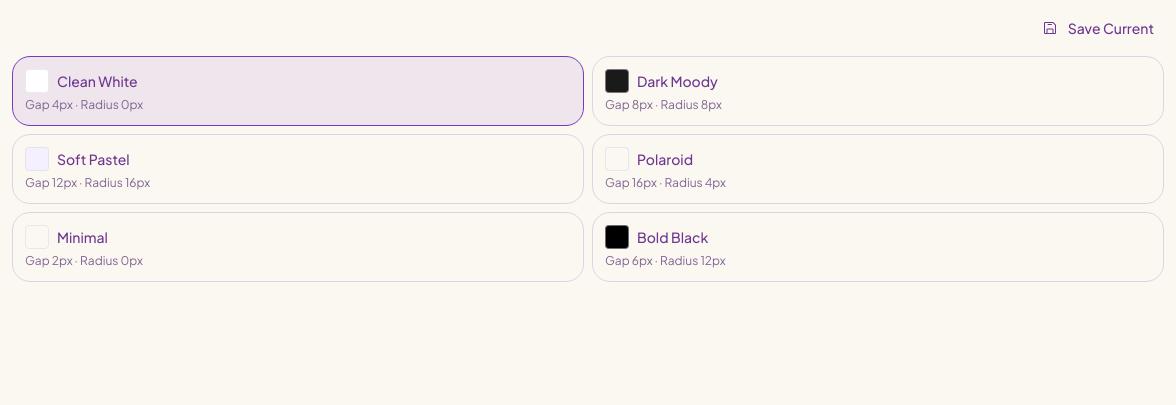
Test: PresetGallery › save button shows save dialog
Expected: the field with placeholder "Preset name" is not shown
Click the button "Save Current" at [1098, 28], box [1032,12,1164,44]
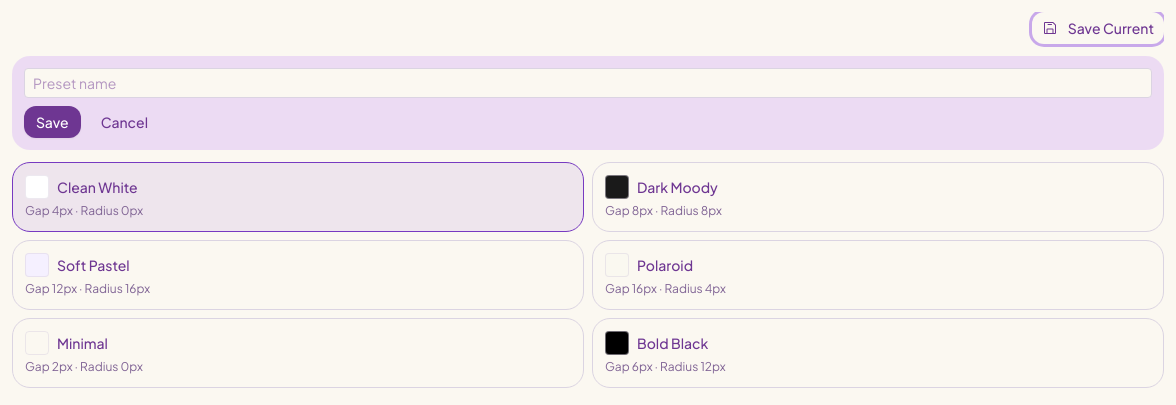
Expected: the field with placeholder "Preset name" is shown, [24,68,1152,98]
